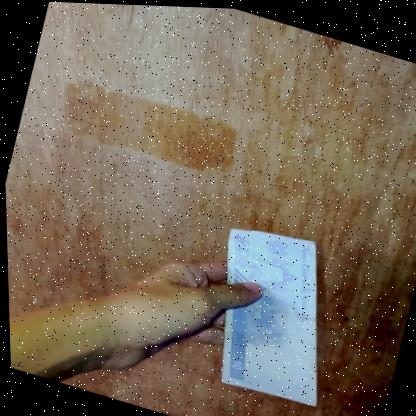ten-back-vef: (185, 213, 357, 408)
